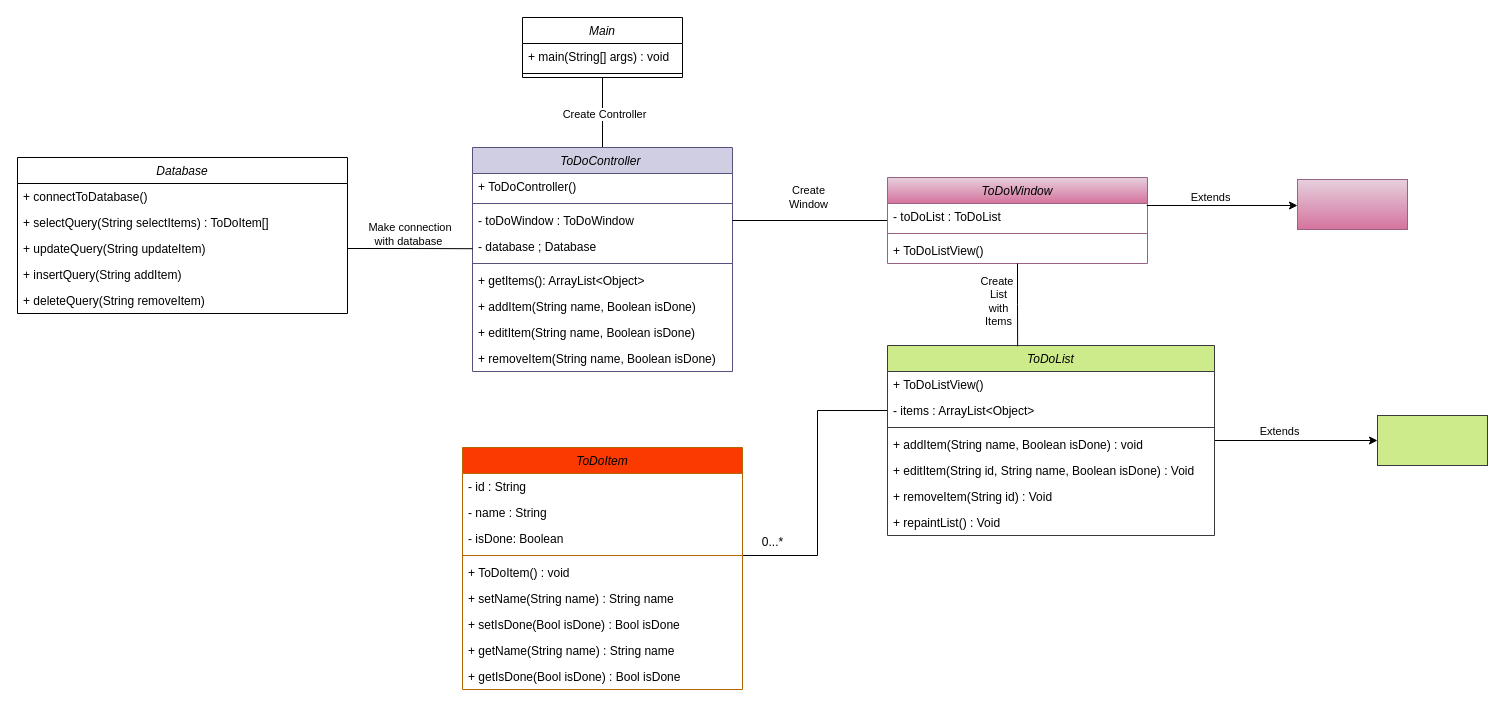
Some shapes in this 1505 by 710 pixel diagram are drawn without their labels. The centre of each missing label's shape, as x and y in pixels:
JFrame: point 1352,204
JPanel: point 1432,440
